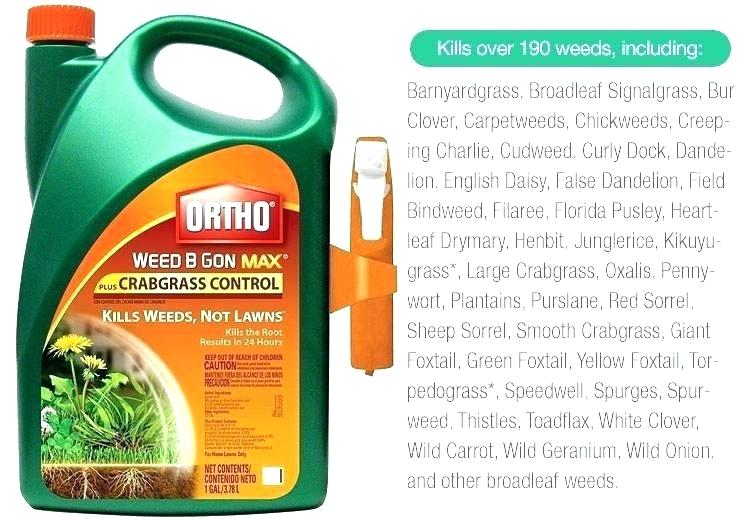crabgrass: (73, 411, 173, 449)
